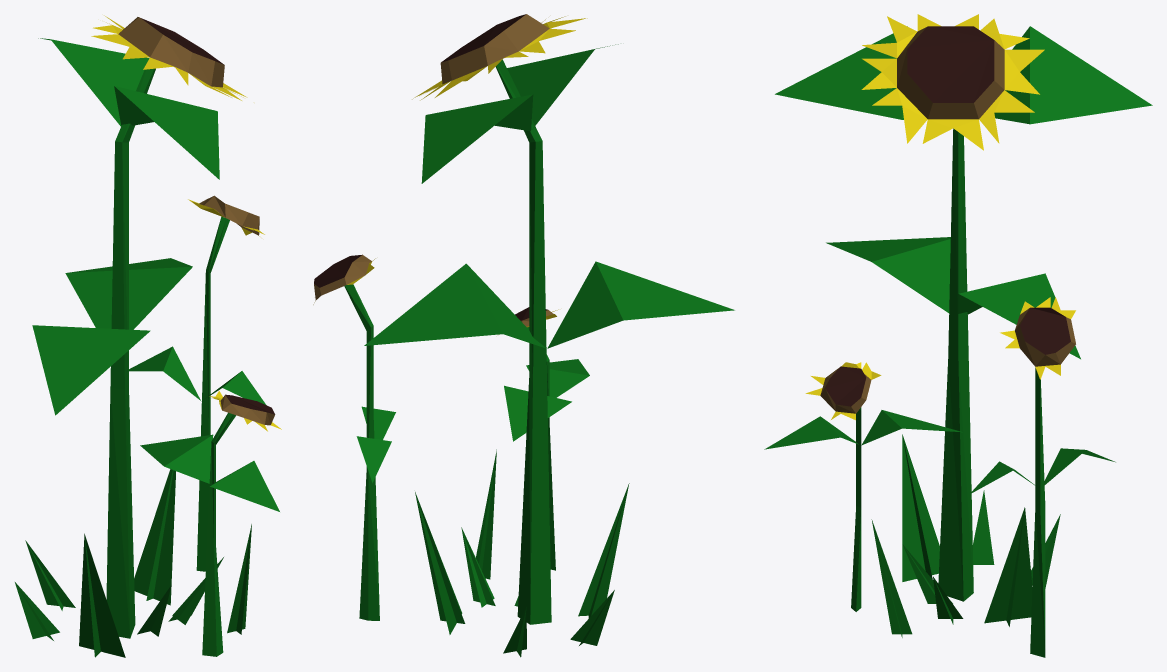
The model's file is obj_sunflowers_0.obj.
The picture shows the model from 3 angles, left to right: view 1: azimuth 30°, elevation 25°; view 2: azimuth 150°, elevation 25°; view 3: azimuth 270°, elevation 25°; orthographic projection. The views are drawn at different scales.
Bounding box in the file's own units: 0.5469 × 0.9766 × 0.5938.
